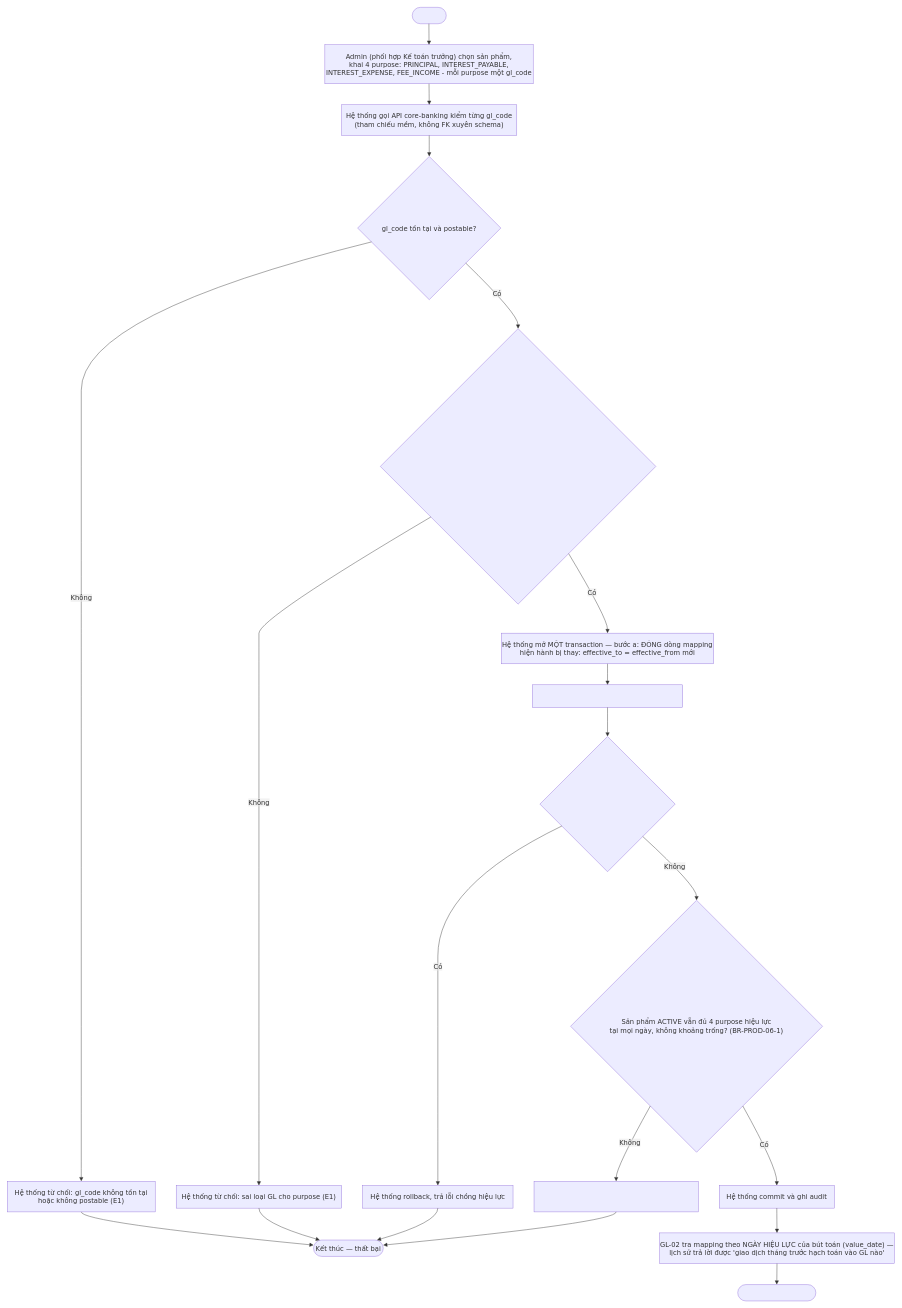
This 902x1308 diagram has some shape labels left out. Here are the shapes that lost their labels. From the top down, the box of each, then its label:
(412, 7, 446, 24): Bắt đầu
(380, 328, 656, 604): Loại GL khớp purpose? (PRINCIPAL của sản phẩm tiền gửi phải là GL LIABILITY)
(532, 684, 683, 707): Bước b: CHÈN dòng mapping mới (BR-G5)
(539, 736, 675, 872): DB báo ex_glmap_overlap?
(534, 1181, 698, 1212): Hệ thống từ chối: mapping bị hở khoảng ngày thiếu purpose
(737, 1284, 816, 1301): Kết thúc — thành công
